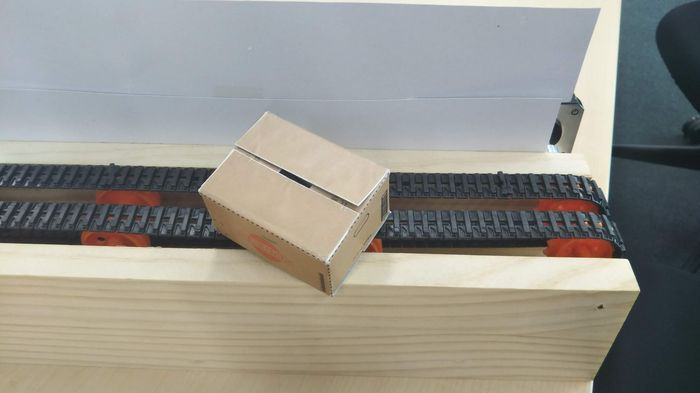box1: (193, 108, 393, 296)
